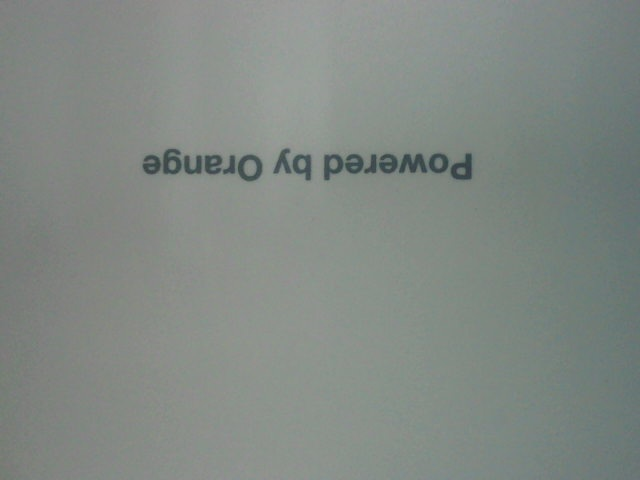AS_PowerByOrange: (130, 130, 475, 199)
